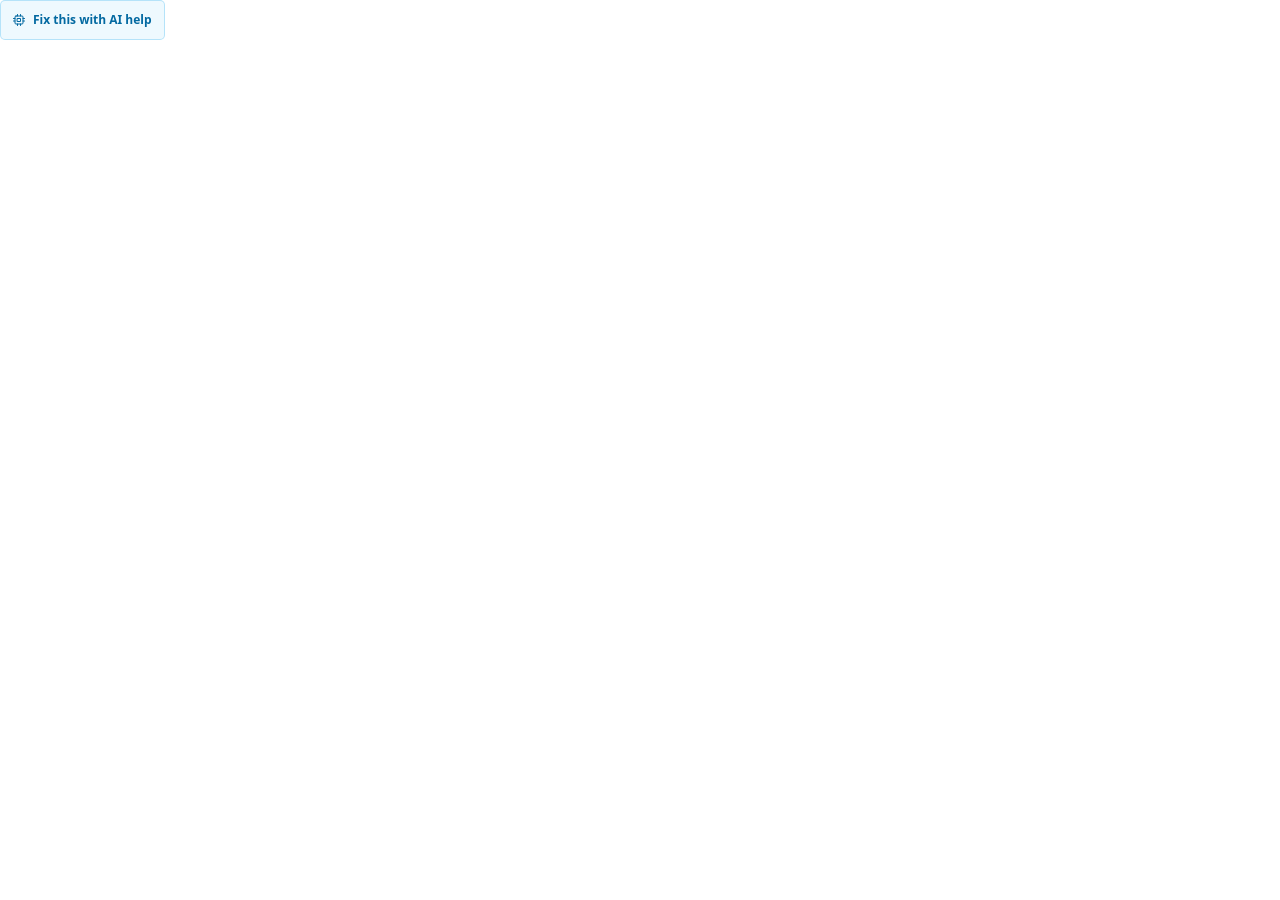
Test: applying a remediation › reports a failed write instead of claiming success
Step 1. Click the button "Fix this with AI help" → [82, 20], box [0,0,165,40]
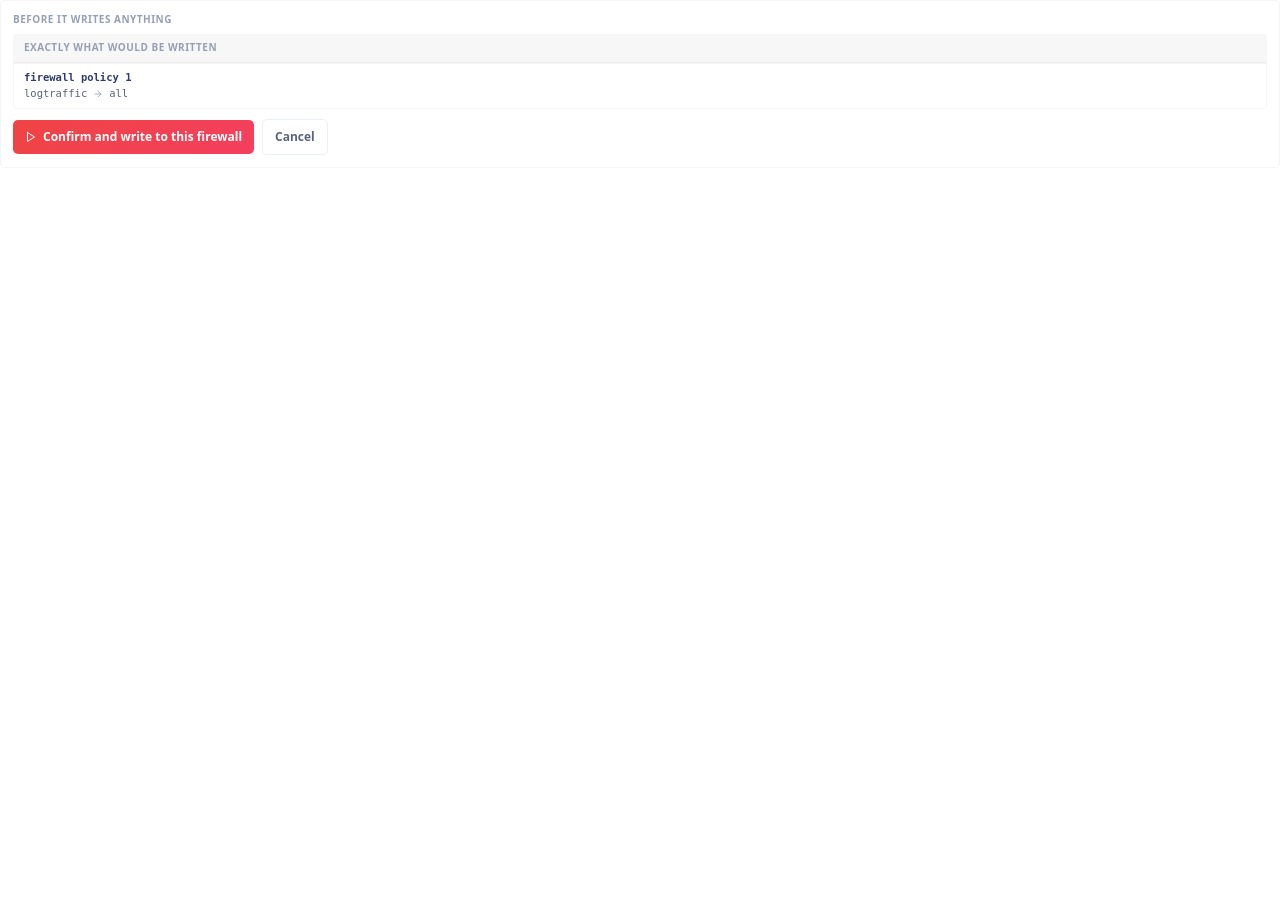
Step 2. Click the button "Confirm and write to this firewall" → [134, 136], box [13,120,254,154]
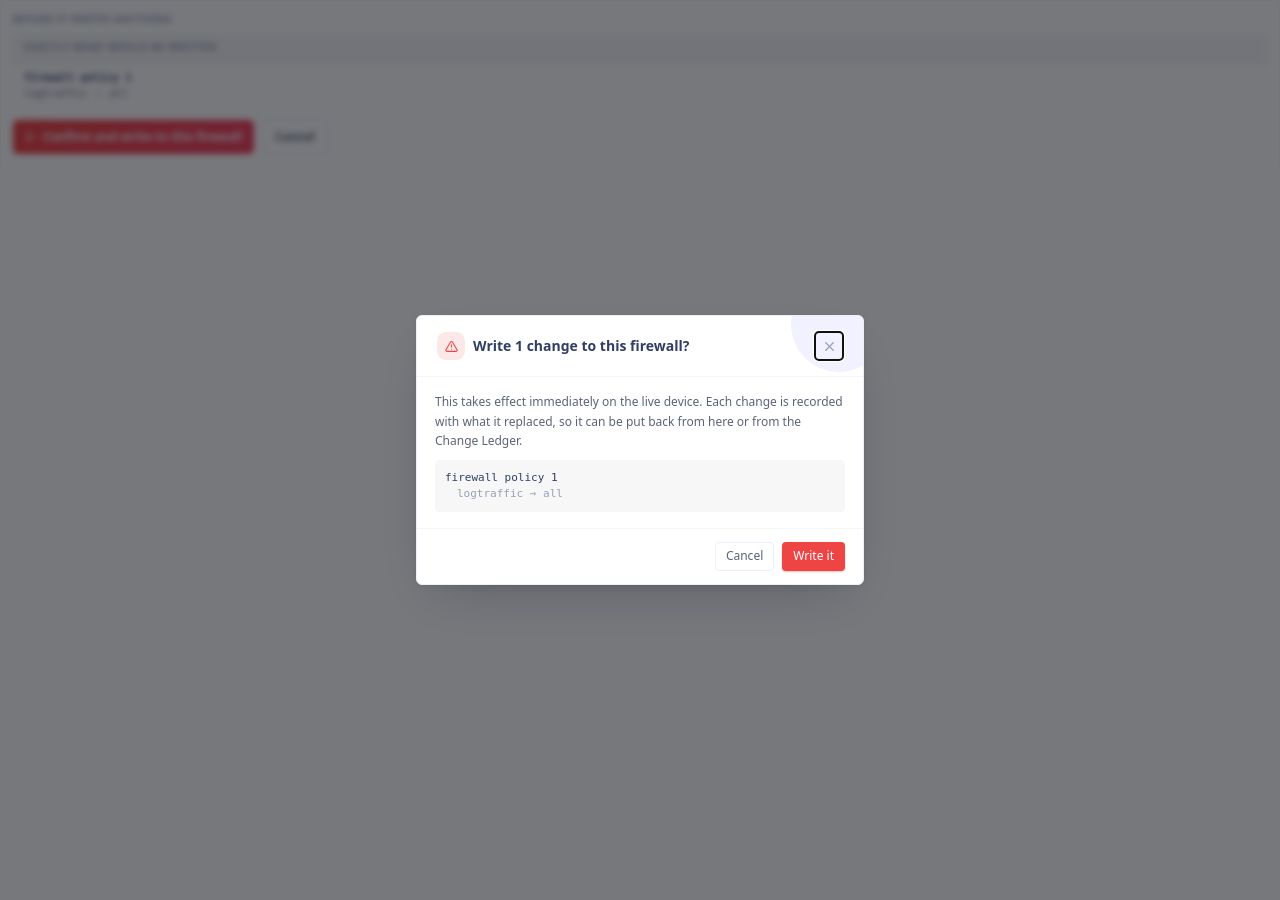
Step 3. Click the button "Write it" → [814, 556], box [782,542,845,571]
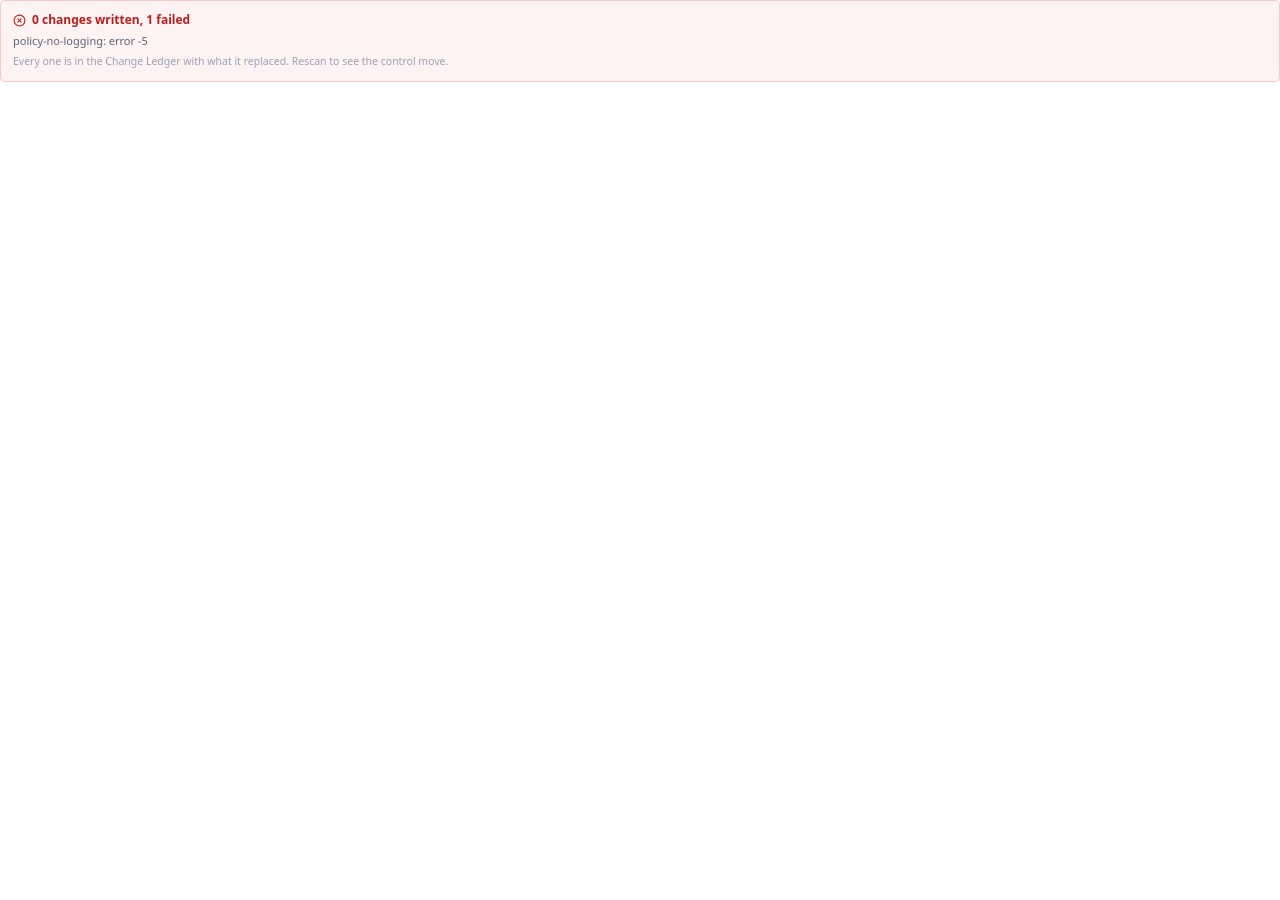
Now the text "0 changes written, 1 failed" is shown, box [13,11,190,29]
Now the text "error -5" is shown, box [109,33,148,50]
